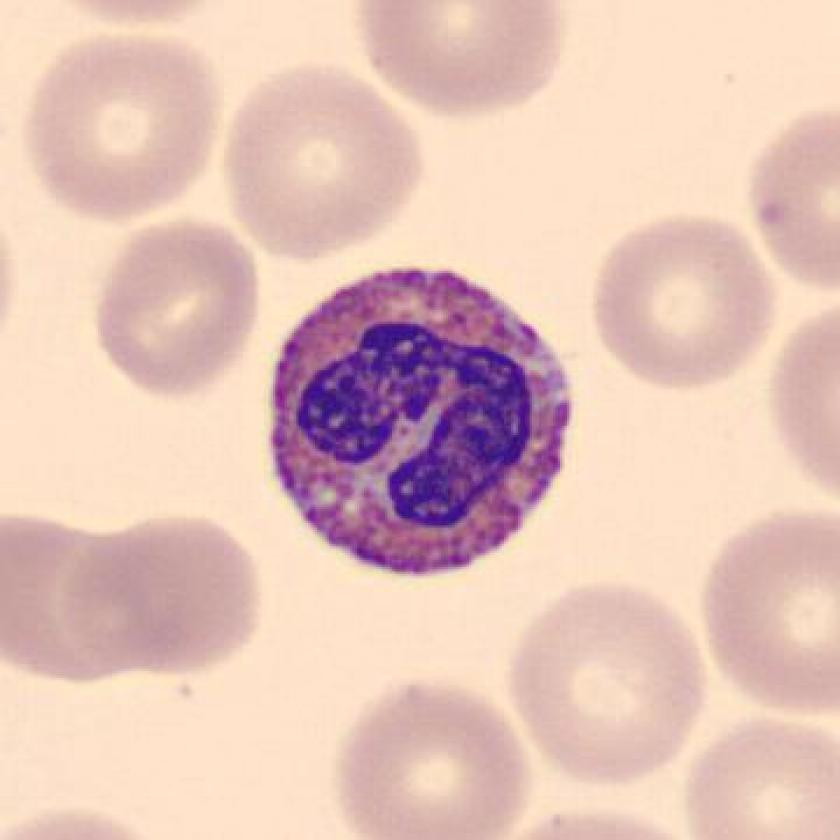eosinophil: (251, 253, 594, 591)
